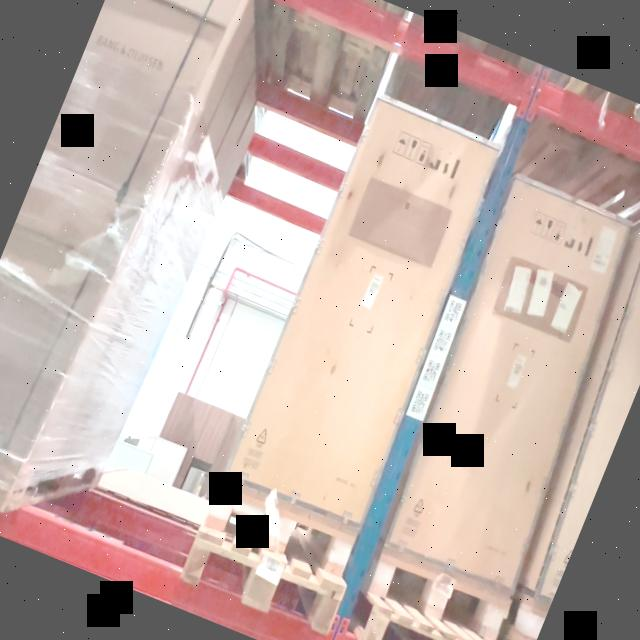box: (226, 92, 503, 522), (386, 182, 632, 584)
